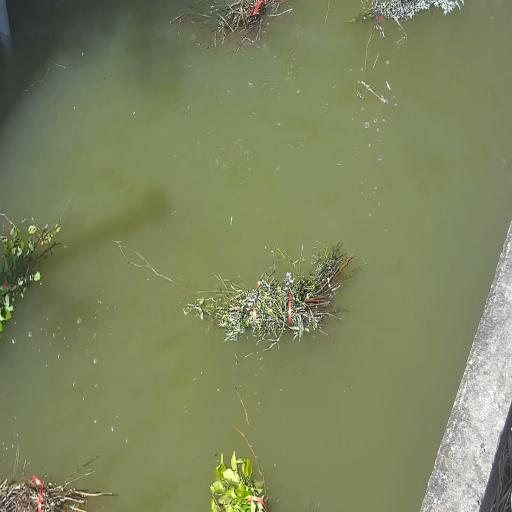twig: (186, 244, 353, 346), (0, 214, 65, 335), (0, 446, 117, 512), (214, 0, 285, 51), (210, 451, 267, 512), (349, 0, 464, 26), (113, 239, 175, 284), (232, 424, 266, 493), (360, 80, 389, 105), (234, 381, 249, 425)
